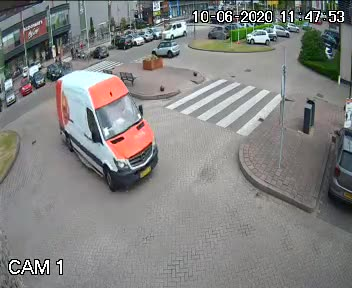car: (41, 71, 160, 181), (156, 21, 189, 39), (149, 41, 181, 57)
